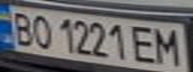1: (106, 20, 130, 61), (54, 16, 75, 53)
2: (87, 19, 109, 60), (69, 17, 90, 56)
B: (6, 9, 39, 47)
E: (127, 24, 160, 64)
M: (151, 25, 187, 66)
O: (27, 12, 57, 51)
